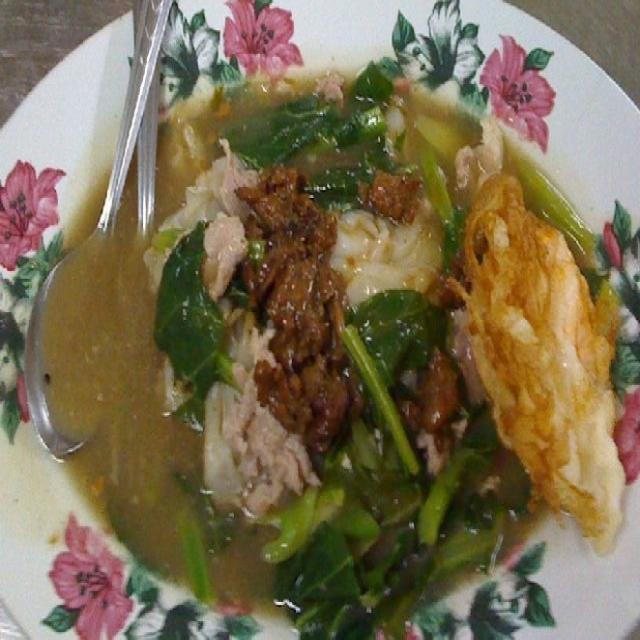面条主食: (33, 41, 608, 615)
